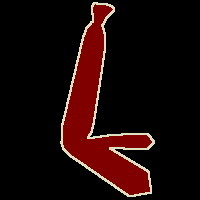tie: (61, 2, 154, 196)
